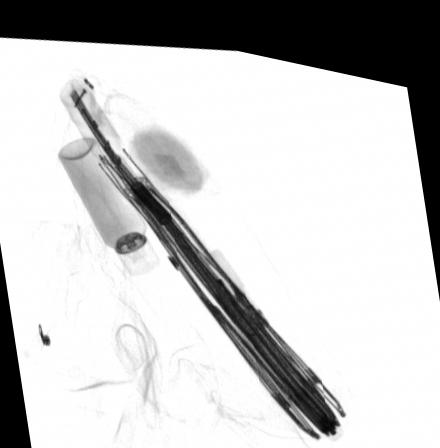Lighter: (197, 236, 271, 321)
Sprayer: (59, 131, 161, 268)
